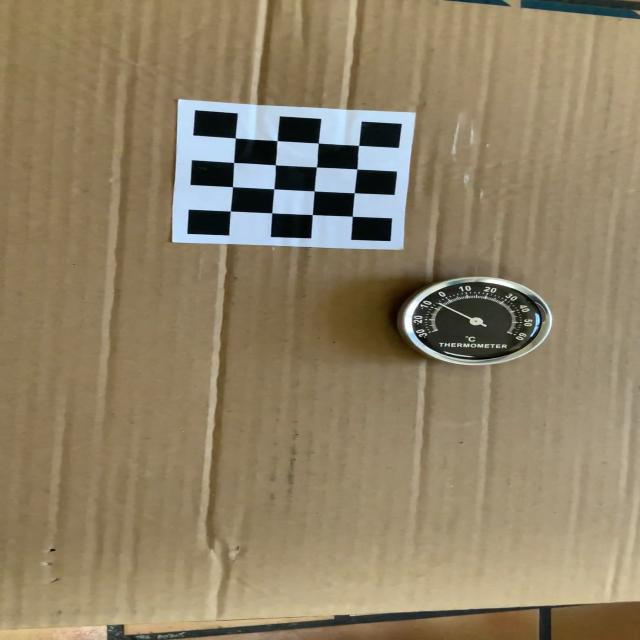gauge: (396, 272, 557, 368)
